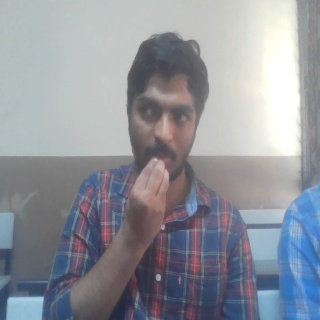Food: (121, 156, 172, 248)
